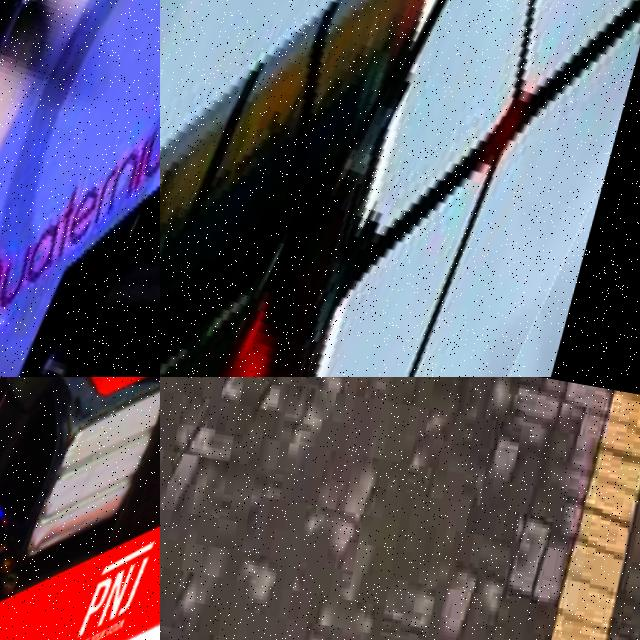drone: (160, 0, 640, 377), (0, 0, 160, 377), (0, 377, 160, 640)
